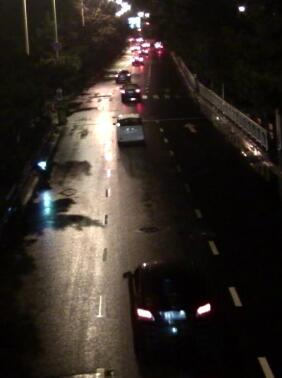car: (121, 261, 227, 361), (111, 111, 145, 146), (119, 84, 144, 101), (111, 69, 131, 85), (131, 51, 145, 68)
